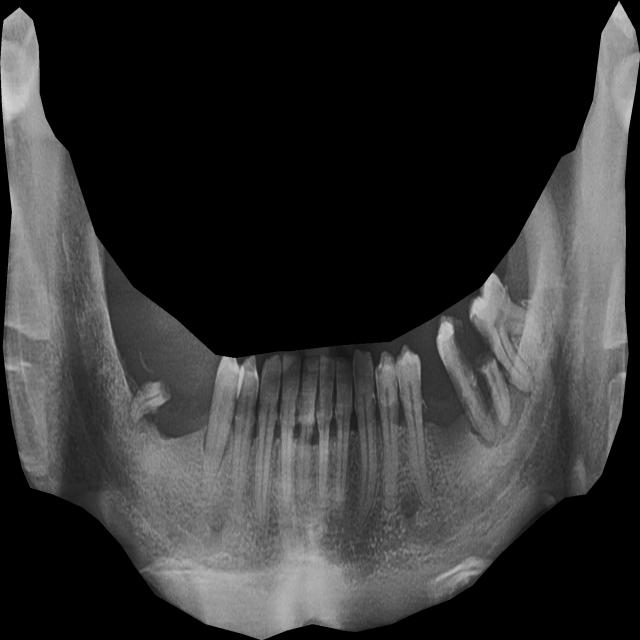mandibula: (0, 1, 640, 640)
